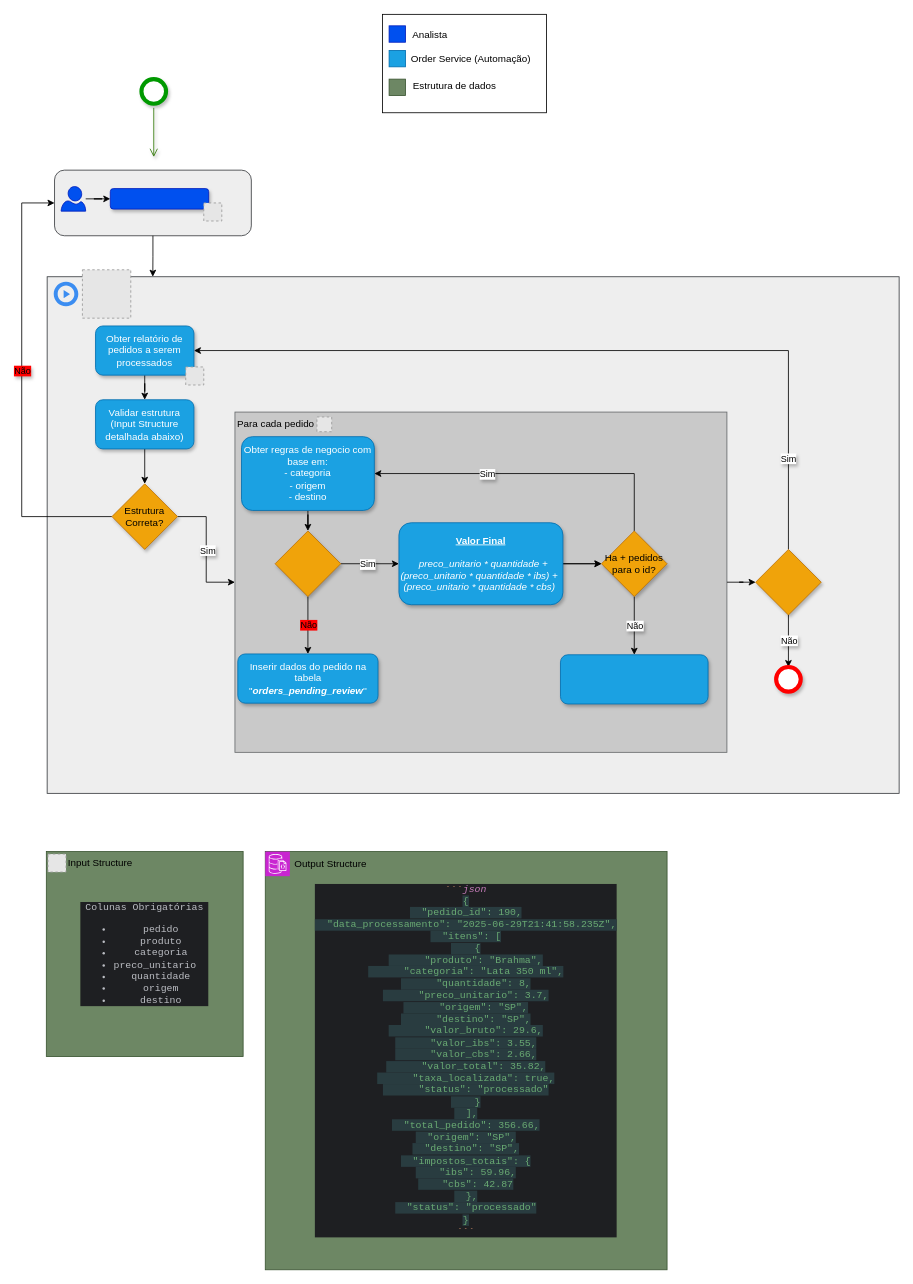
Some shapes in this 913 by 1284 pixel diagram are drawn without their labels. Grey dashed boxes stand in for pictures. The shapes that lost their labels are listed below. From the top down, each one's centre as x and y in pixels, then its label:
the point at 160,199: Planilha de pedidos
the point at 308,564: Regra Localizada?
the point at 789,583: Ha mais arquivos?
the point at 634,680: Inserir dados agrupados por id do pedido na tabela " orders "
